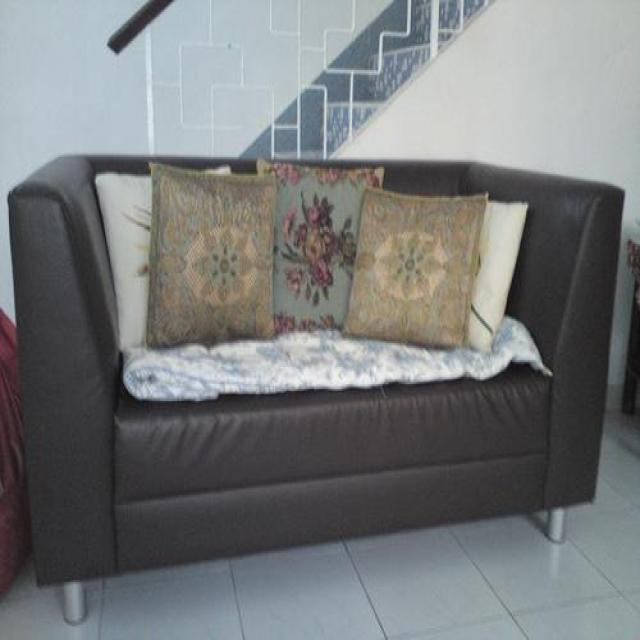sofa: (8, 153, 627, 625)
